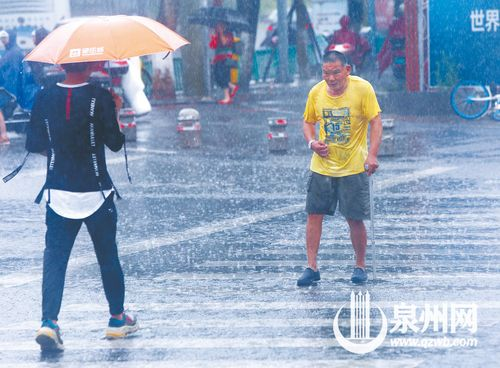bicycle: (450, 67, 500, 123)
motorbike: (1, 66, 119, 133), (323, 39, 365, 78)
person: (24, 61, 154, 355), (293, 52, 382, 289), (207, 20, 242, 104), (2, 27, 26, 100), (329, 14, 358, 47)
umbrella: (24, 14, 192, 75), (188, 6, 253, 33)
